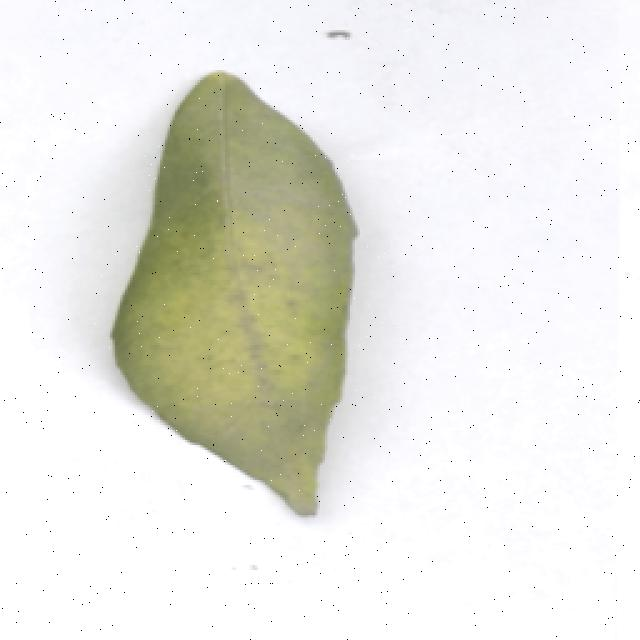greening: (110, 66, 382, 509)
